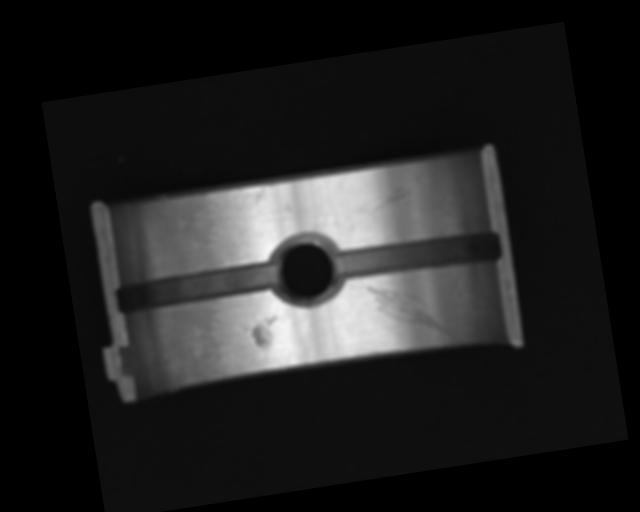bruise: (248, 314, 281, 348)
gap: (332, 227, 502, 284), (115, 259, 281, 313)
hole: (268, 231, 342, 308)
nick: (365, 275, 450, 351), (359, 185, 413, 218)
